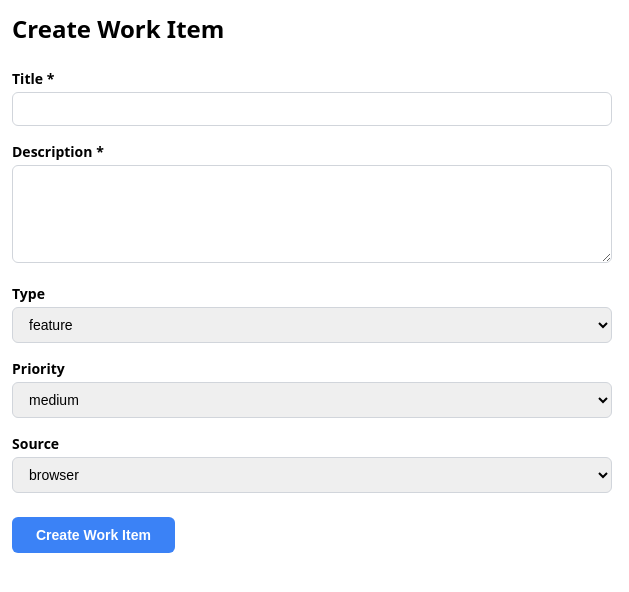
CreateWorkItemPage › shows validation error when title is empty
In the text box with test id "input-description": (312, 214) [12,165,612,263], type "Some description"
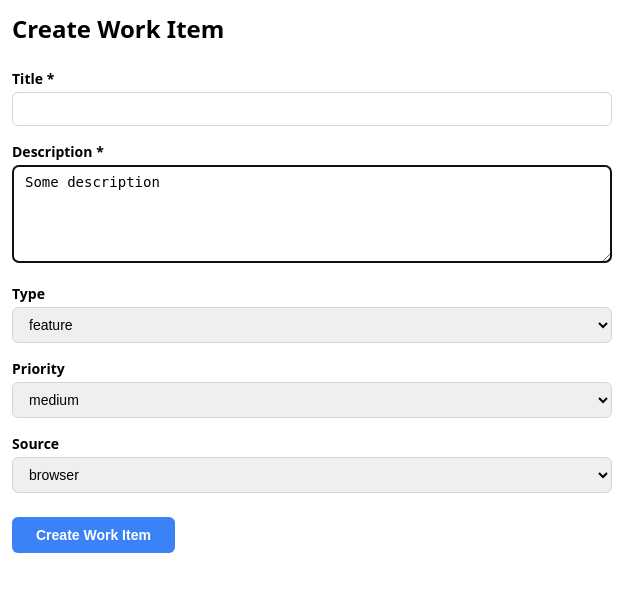
Click the button with test id "submit-button": click(93, 535) [12,517,175,553]
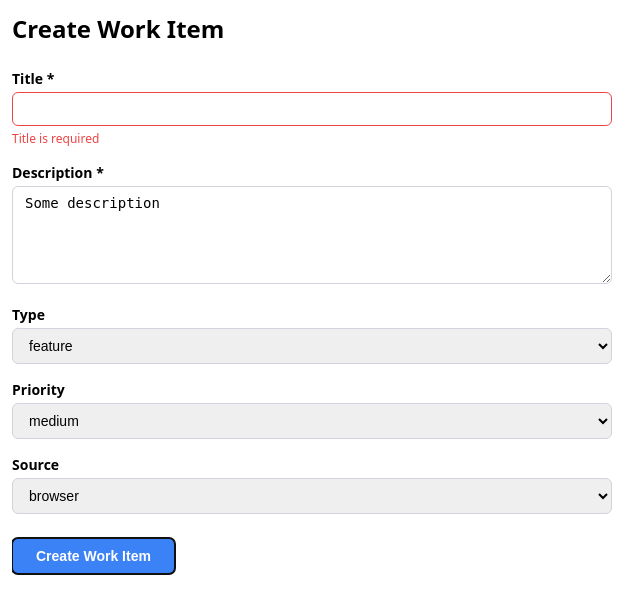
expect the text with test id "error-title" reads "Title is required": met, box [12,130,99,147]
